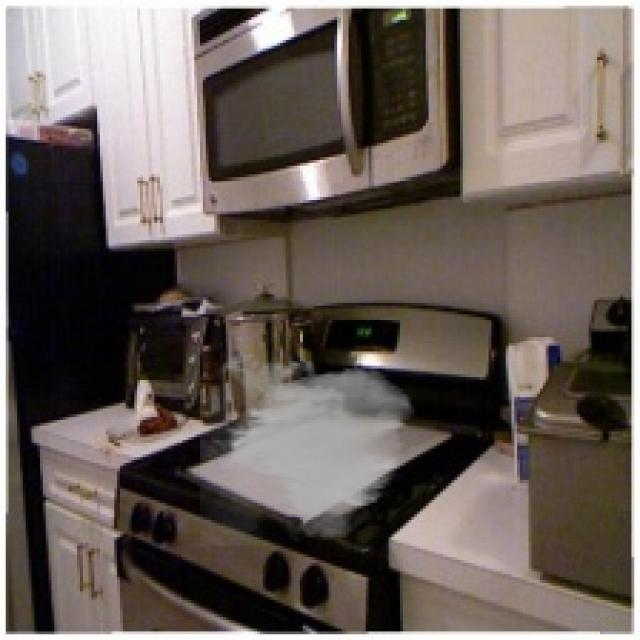smoke: (200, 346, 417, 546)
